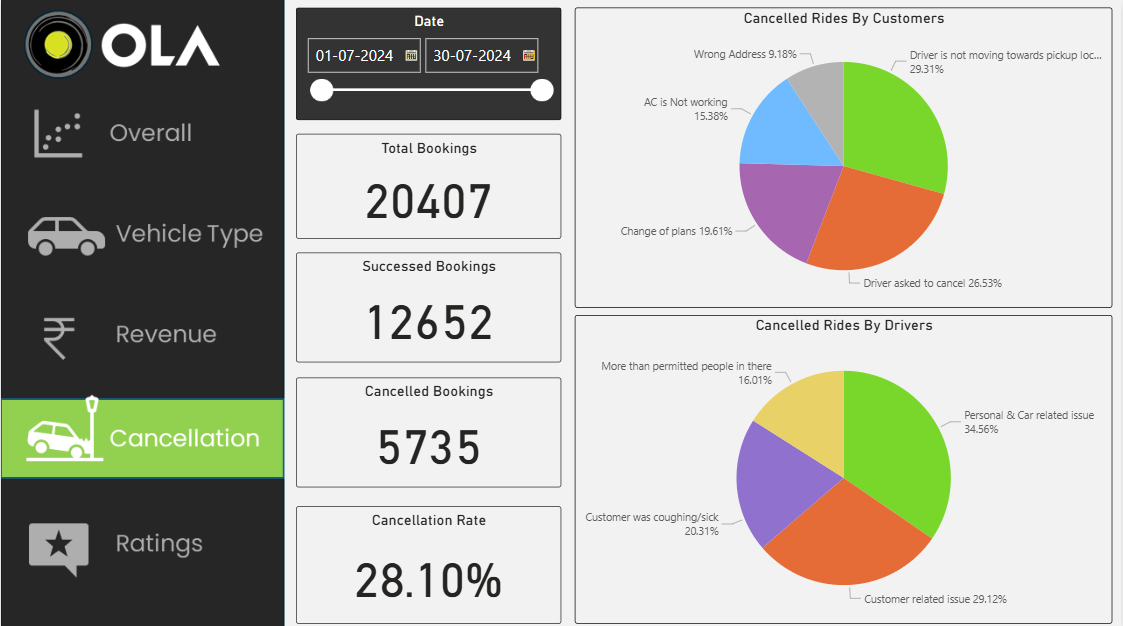

The dashboard page shown, as its layout file describes it:
{"tool":"powerbi","page":{"name":"Cancellatioin","canvas":[1280,720],"ordinal":3},"visuals":[{"type":"actionButton","box":[0,341.4,324.5,90.5],"z":0},{"type":"actionButton","box":[0,224.4,324.5,90.5],"z":1000},{"type":"actionButton","box":[1.2,107.4,324.5,90.5],"z":2000},{"type":"actionButton","box":[0,577.9,324.5,90.5],"z":3000},{"type":"pieChart","title":"Cancelled Rides By Customers","fields":{"Category":["Bookings.Canceled_Rides_by_Customer"],"Y":["CountNonNull(Bookings.Canceled_Rides_by_Customer)"]},"box":[655.7,8.6,614.3,342.9],"z":4000},{"type":"pieChart","title":"Cancelled Rides By Drivers","fields":{"Category":["Bookings.Canceled_Rides_by_Driver"],"Y":["CountNonNull(Bookings.Canceled_Rides_by_Driver)"]},"box":[655.7,360,614.3,352.9],"z":5000},{"type":"slicer","title":"Date","fields":{"Values":["Bookings.Date"]},"box":[337.1,8.6,302.9,128.6],"z":6000},{"type":"card","title":"Total Bookings","fields":{"Values":["CountNonNull(Bookings.Booking_ID)"]},"box":[337.1,152.9,302.9,120],"z":7000},{"type":"card","title":"Successed Bookings","fields":{"Values":["CountNonNull(Bookings.Booking_ID)"]},"box":[337.1,288.6,302.9,125.7],"z":8000},{"type":"card","title":"Cancelled Bookings","fields":{"Values":["CountNonNull(Bookings.Booking_ID)"]},"box":[337.1,431.4,302.9,125.7],"z":9000},{"type":"card","title":"Cancellation Rate","fields":{"Values":["Bookings.CancelledPercentage"]},"box":[337.1,578.6,302.9,134.3],"z":10000}]}

Visuals, with their boxes in screenshot pixels (x1, y1, x2, y2), scaled from the page's 1280x720 canvas onto the 1123x626 screenshot:
actionButton: (left=0, top=297, right=285, bottom=376)
actionButton: (left=0, top=195, right=285, bottom=274)
actionButton: (left=1, top=93, right=286, bottom=172)
actionButton: (left=0, top=502, right=285, bottom=581)
"Cancelled Rides By Customers" pieChart: (left=575, top=7, right=1114, bottom=306)
"Cancelled Rides By Drivers" pieChart: (left=575, top=313, right=1114, bottom=620)
"Date" slicer: (left=296, top=7, right=562, bottom=119)
"Total Bookings" card: (left=296, top=133, right=562, bottom=237)
"Successed Bookings" card: (left=296, top=251, right=562, bottom=360)
"Cancelled Bookings" card: (left=296, top=375, right=562, bottom=484)
"Cancellation Rate" card: (left=296, top=503, right=562, bottom=620)
